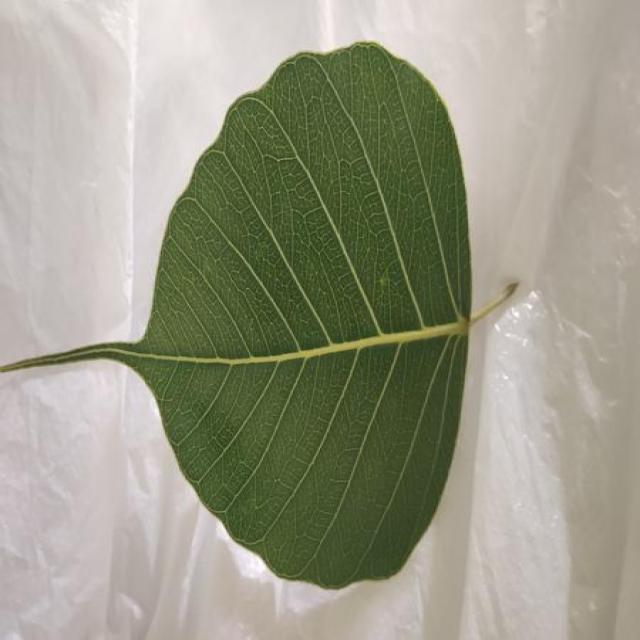arali: (3, 42, 502, 588)
